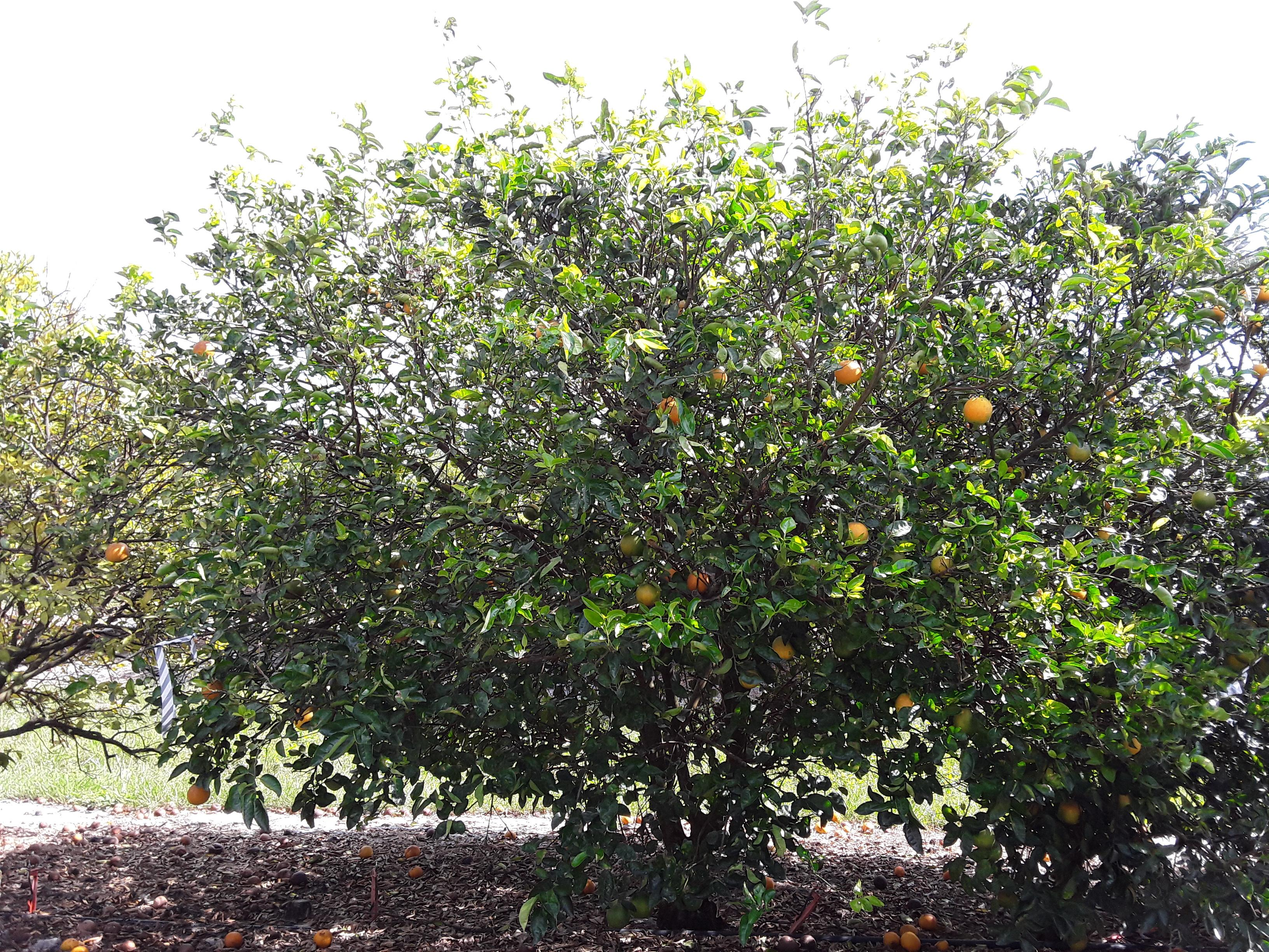fruit_on_ground: (531, 317, 572, 351), (656, 395, 690, 428), (619, 530, 648, 561), (950, 706, 975, 739), (278, 576, 309, 600), (771, 634, 797, 662), (685, 570, 713, 595), (633, 582, 661, 607), (963, 398, 992, 422), (103, 541, 133, 564), (191, 338, 216, 364), (1067, 439, 1092, 464), (1189, 487, 1213, 511), (201, 679, 226, 702), (1208, 301, 1231, 326), (848, 520, 873, 542), (833, 363, 860, 383), (404, 295, 427, 318), (1005, 462, 1026, 486), (1249, 358, 1269, 382), (522, 501, 543, 523), (187, 786, 209, 807), (1062, 803, 1084, 824), (1251, 281, 1269, 305), (933, 557, 953, 577), (1068, 585, 1089, 604), (710, 367, 731, 386), (893, 695, 916, 711), (298, 708, 318, 726), (1096, 525, 1117, 542), (1127, 740, 1145, 758), (1104, 385, 1120, 405), (762, 390, 778, 404)
fruit_on_tree: (604, 901, 631, 931), (627, 891, 653, 920), (916, 909, 941, 933), (895, 930, 922, 952), (223, 928, 246, 950), (400, 842, 423, 862), (313, 929, 337, 948), (757, 874, 777, 896), (882, 930, 902, 951), (778, 933, 798, 952), (798, 934, 819, 951), (900, 922, 919, 940), (406, 863, 426, 880), (357, 843, 376, 860), (579, 878, 596, 897), (872, 874, 889, 891), (813, 820, 830, 836), (933, 937, 951, 952), (60, 937, 79, 950), (893, 864, 907, 881), (939, 869, 954, 883), (504, 827, 517, 841), (862, 821, 875, 834), (619, 814, 632, 826), (69, 945, 90, 952), (634, 813, 644, 826)
